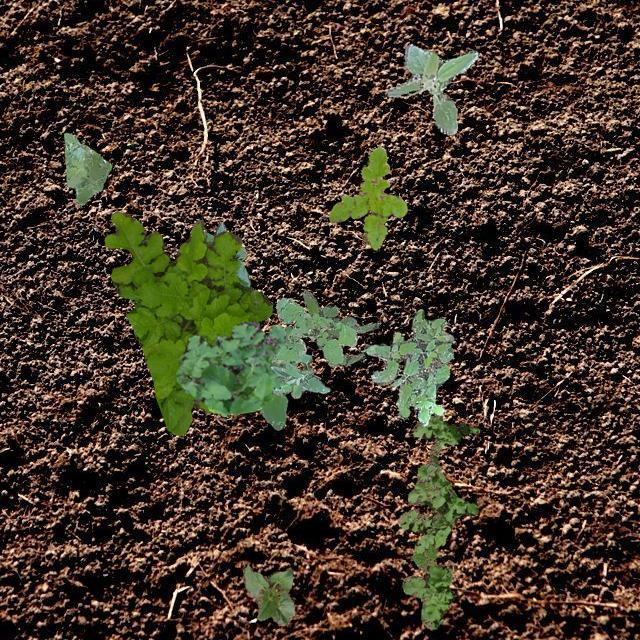crop: (242, 564, 294, 624), (202, 222, 250, 286)
weed: (104, 210, 272, 434), (396, 413, 478, 628), (174, 320, 288, 416), (363, 308, 452, 424), (386, 44, 476, 134), (328, 146, 407, 248), (270, 296, 356, 364), (302, 290, 378, 366), (62, 132, 110, 204), (270, 350, 328, 398), (258, 358, 296, 428), (282, 324, 292, 338)
